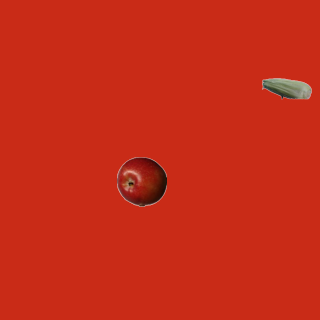Apple Braeburn: (116, 156, 166, 206)
Corn Husk: (261, 63, 311, 113)
